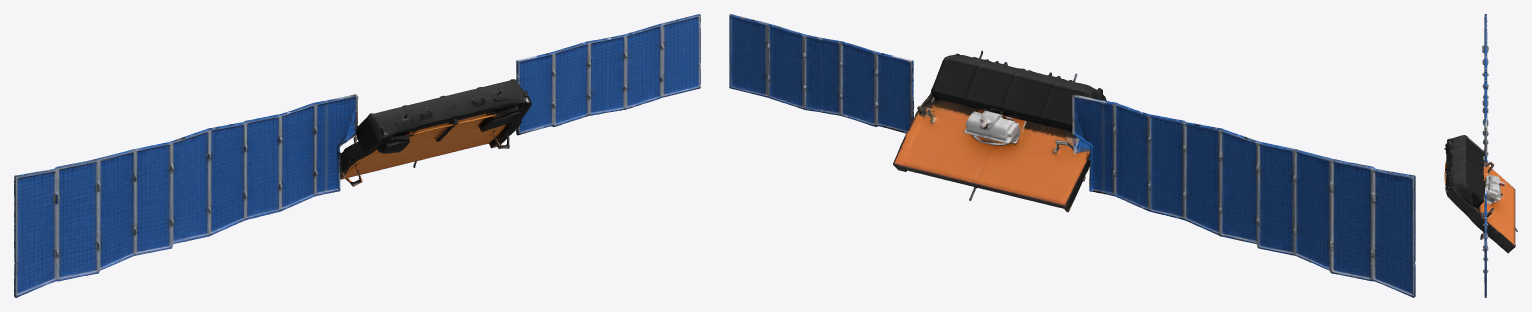
File: geonet.glb
3 views of the same model, side by side, from view 1: azimuth 30°, elevation 25°; view 2: azimuth 150°, elevation 25°; view 3: azimuth 270°, elevation 25° (orthographic). The views are drawn at different scales.
Size of the model in its own units: 1.9 by 0.3215 by 0.2577.
1 material, 1 textured.
